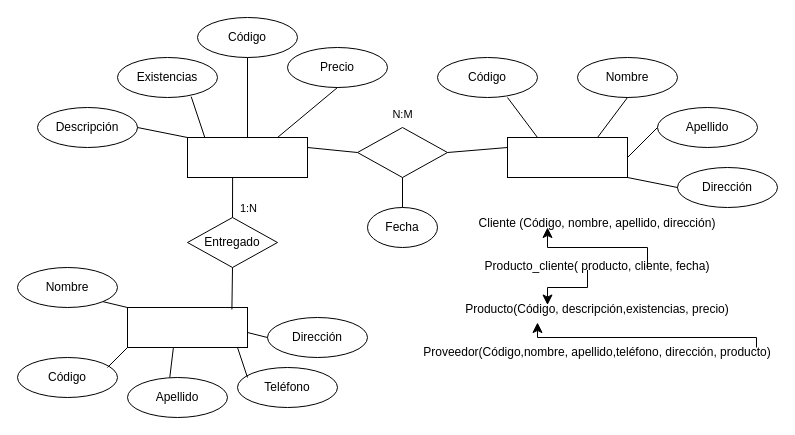
The diagram is 795 pixels wide and 435 high, and some of its shapes have lost their labels. Each missing label, with the centre of its shape:
"Cliente" goes at point (567, 157).
"Producto" goes at point (247, 157).
"Proveedor" goes at point (187, 327).
"Vende" goes at point (402, 152).
